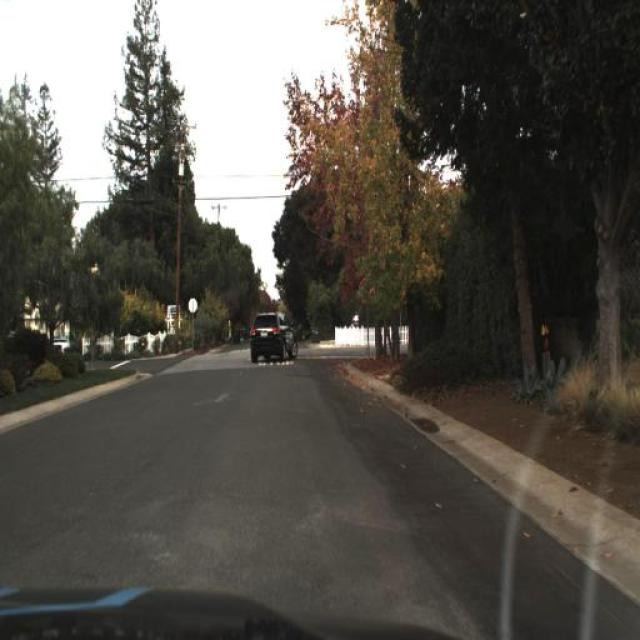car: (246, 306, 302, 366)
